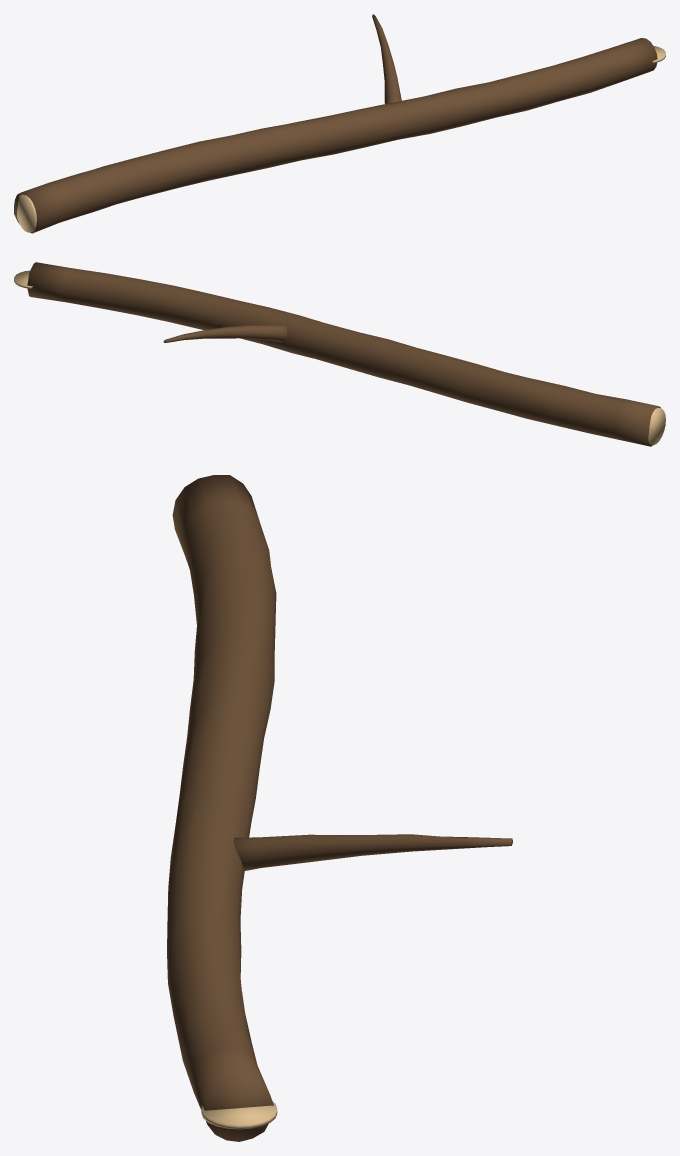
Rendered from nest-twiglog.glb.
3 views of the same model, one above another, from view 1: azimuth 30°, elevation 25°; view 2: azimuth 150°, elevation 25°; view 3: azimuth 270°, elevation 25° (orthographic). The views are drawn at different scales.
Parts seen in each view (by area): view 1: TwigLog__Bark, TwigLog__CutEnds; view 2: TwigLog__Bark, TwigLog__CutEnds; view 3: TwigLog__Bark, TwigLog__CutEnds.
Boxes of the visible parts, x1=… form: TwigLog__Bark: x1=14, y1=14, x2=657, y2=233; TwigLog__CutEnds: x1=17, y1=45, x2=665, y2=232; TwigLog__Bark: x1=27, y1=262, x2=660, y2=446; TwigLog__CutEnds: x1=14, y1=270, x2=665, y2=445; TwigLog__Bark: x1=167, y1=475, x2=512, y2=1141; TwigLog__CutEnds: x1=201, y1=1102, x2=277, y2=1129.
Bounding box in the file's own units: 57.69 × 5.05 × 13.63.
